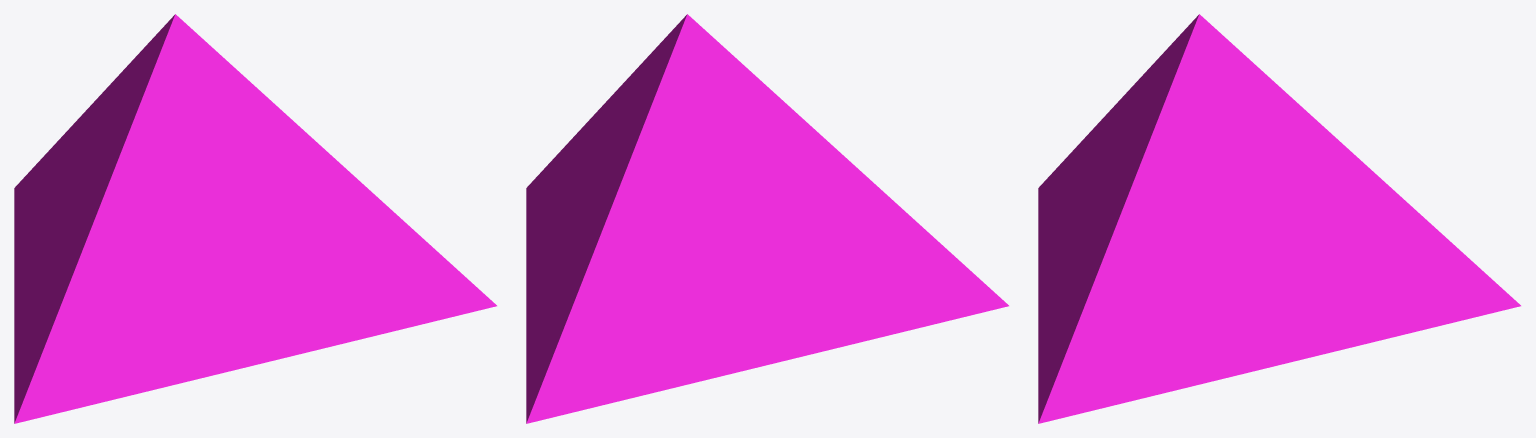
The model's file is magnus_shard-Cu20v3zU.glb.
The picture shows the model from 3 angles, left to right: view 1: azimuth 30°, elevation 25°; view 2: azimuth 150°, elevation 25°; view 3: azimuth 270°, elevation 25°; orthographic projection.
Parts seen in each view (by area): view 1: Cone; view 2: Cone; view 3: Cone.
Part boxes in pixels (x1,y1,x2,y2): Cone: (14, 14, 496, 423); Cone: (526, 14, 1008, 423); Cone: (1038, 14, 1520, 423).
Bounding box in the file's own units: 0.5425 × 0.3132 × 0.4698.
